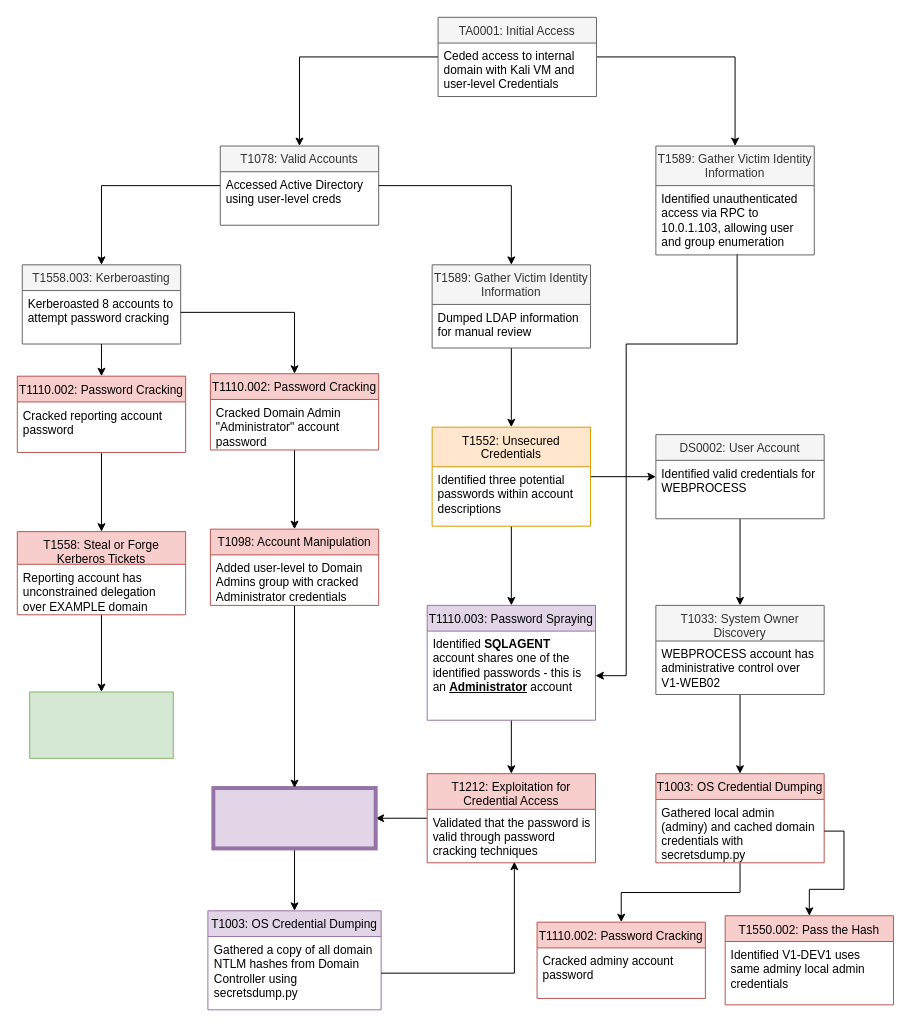
Image size: 911x1030. Some labels were removed from this diagram. The centre of each missing label's shape, as x and y in pixels:
"Complete and total Administrative access over Example domain" belongs at [294,818].
"Unable to complete exploit, as necessary victim machine is offline" belongs at [101,724].
